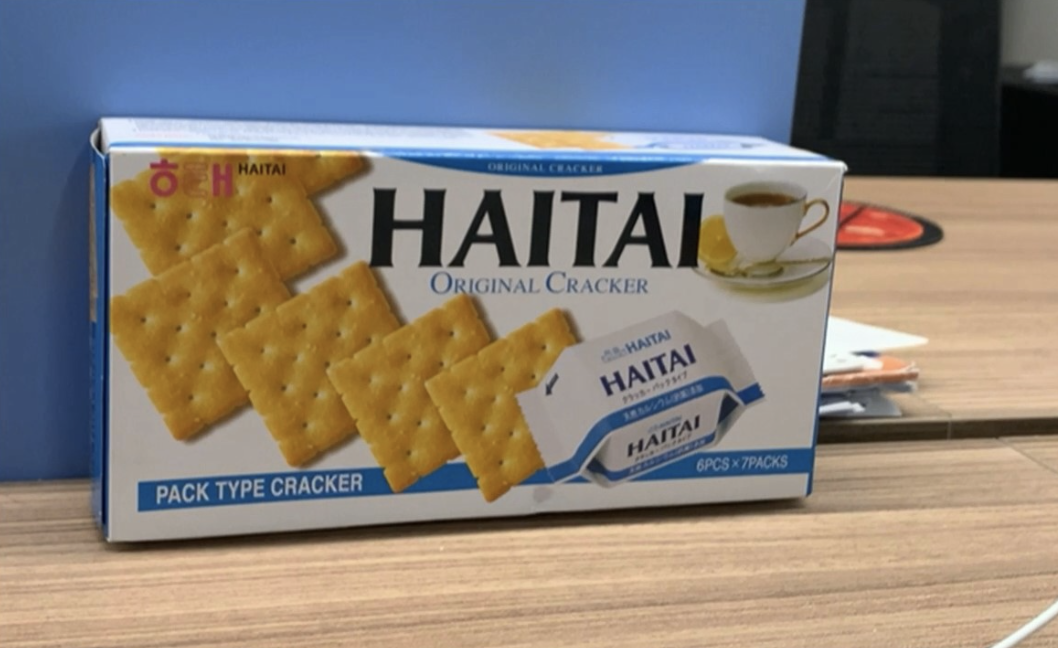crackers_200g-299g: (141, 159, 807, 506)
